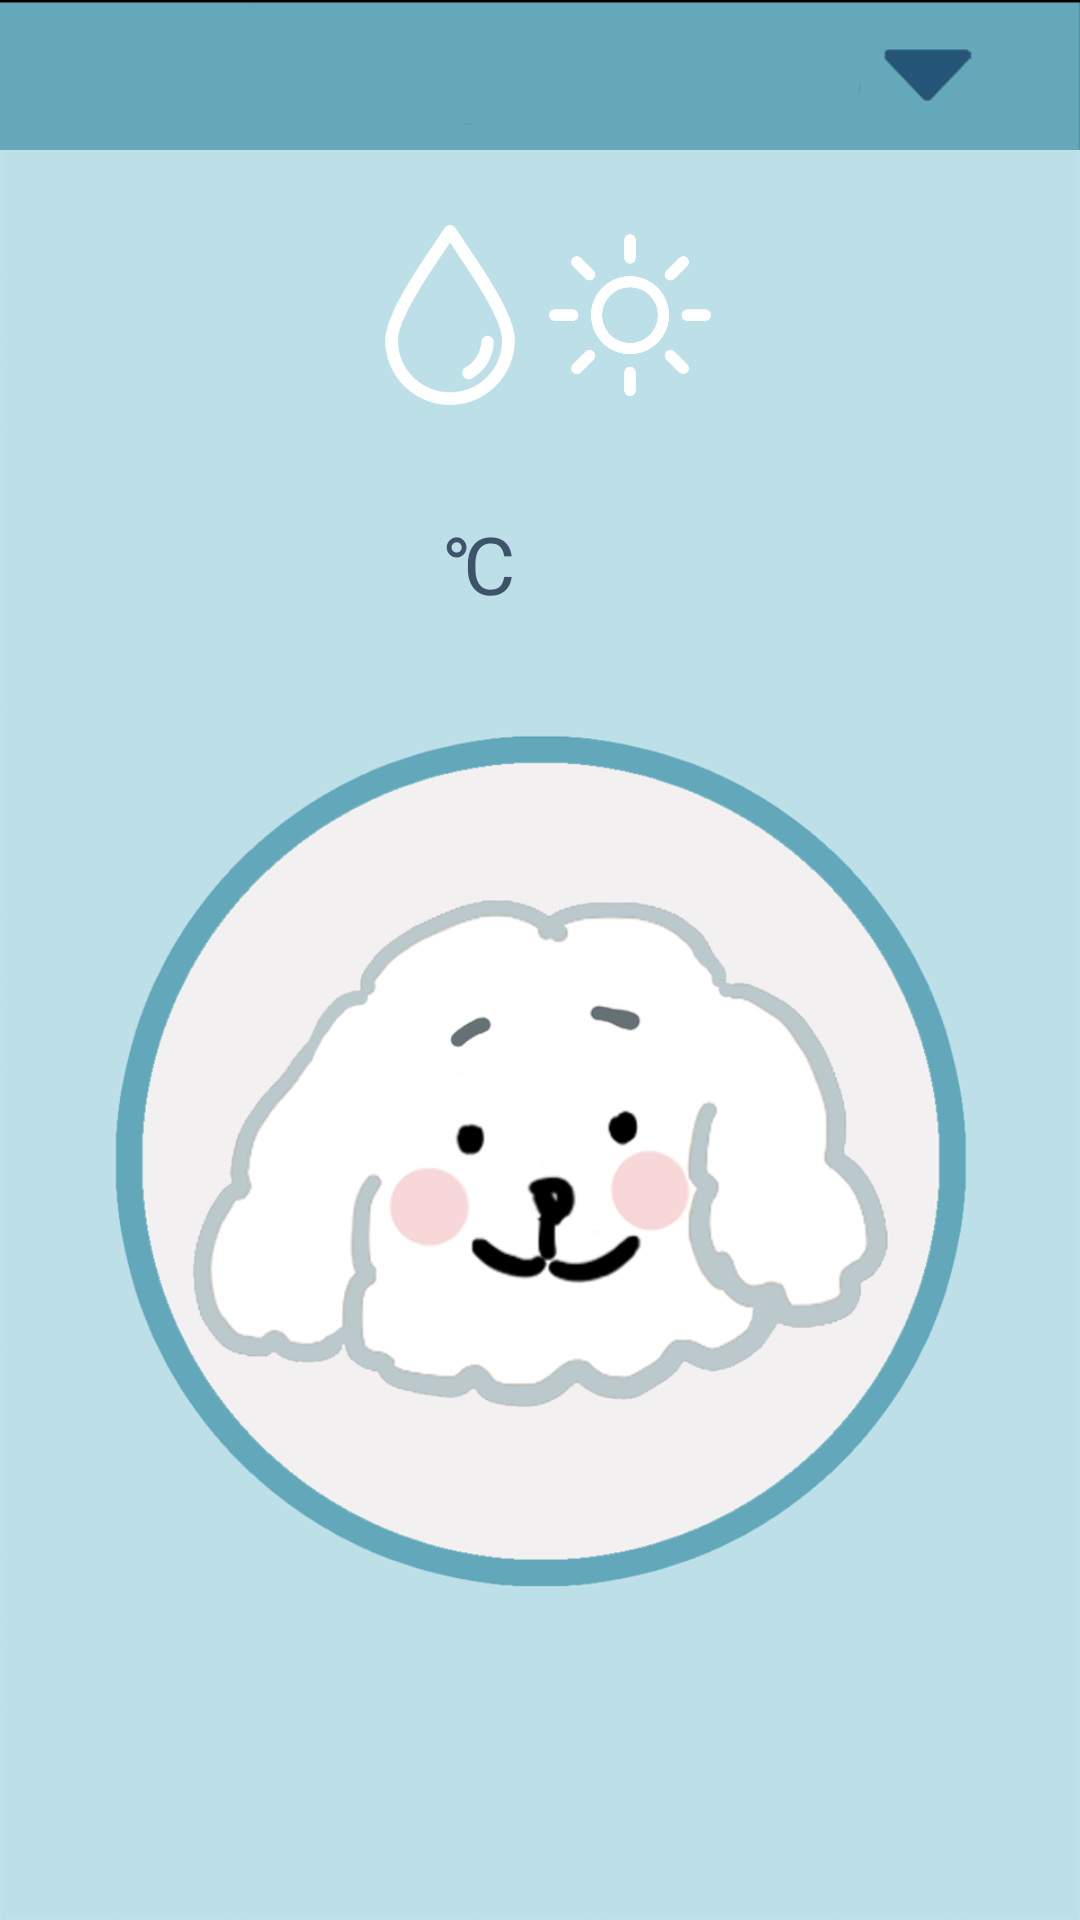

Where to tap for icons on this 1080px x 1920px app screen, as point (x, y):
weather drop: point (450, 315)
weather sun: point (630, 315)
